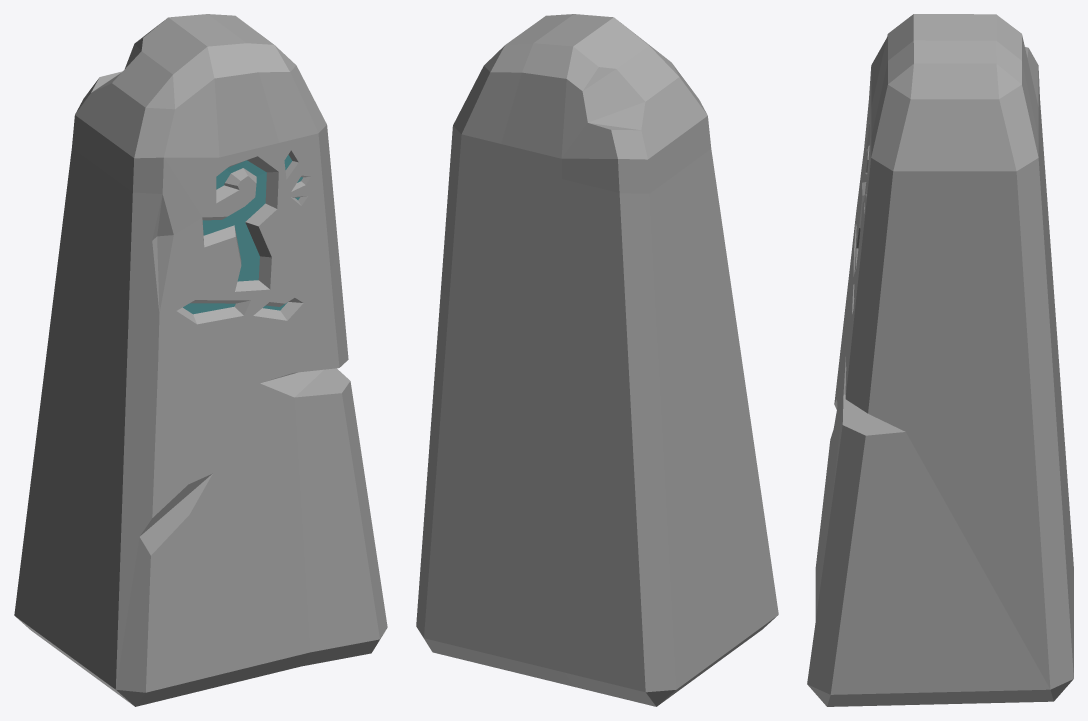
Rendered from Stele_3.fbx.
3 renders of one model, left to right at view 1: azimuth 30°, elevation 25°; view 2: azimuth 150°, elevation 25°; view 3: azimuth 270°, elevation 25°, orthographic. The views are drawn at different scales.
Parts seen in each view (by area): view 1: Stele_3; view 2: Stele_3; view 3: Stele_3.
Part boxes in pixels (left/top/right/bottom): Stele_3: left=14, top=14, right=387, bottom=706; Stele_3: left=416, top=14, right=778, bottom=706; Stele_3: left=807, top=14, right=1073, bottom=706.
Size of the model in its own units: 1.37 by 2.97 by 1.14.
